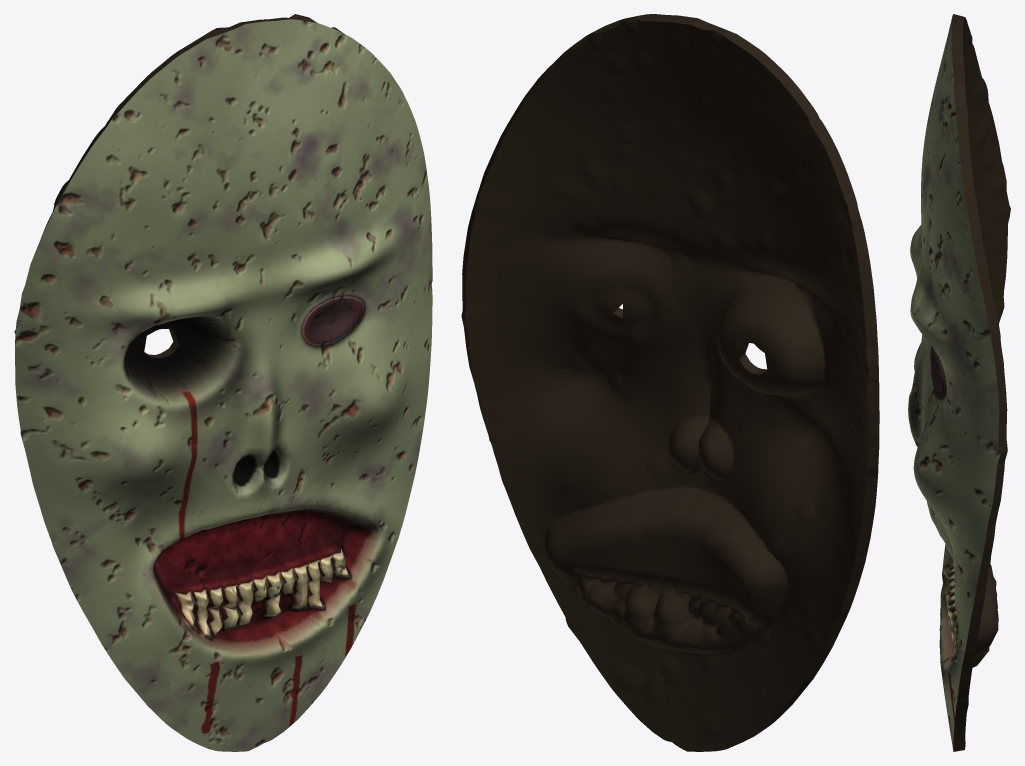
Rendered from 腐乱面_fuuran.glb.
3 renders of one model, left to right at view 1: azimuth 30°, elevation 25°; view 2: azimuth 150°, elevation 25°; view 3: azimuth 270°, elevation 25°, orthographic. The views are drawn at different scales.
Parts seen in each view (by area): view 1: fuuran; view 2: fuuran; view 3: fuuran.
Boxes of the visible parts, x1,y1,x2,y2 form: fuuran: [14, 14, 432, 751]; fuuran: [461, 14, 879, 751]; fuuran: [908, 14, 1010, 751].
Bounding box in the file's own units: 0.1796 × 0.3003 × 0.0392.
Materials: 1 (1 with a texture image).
